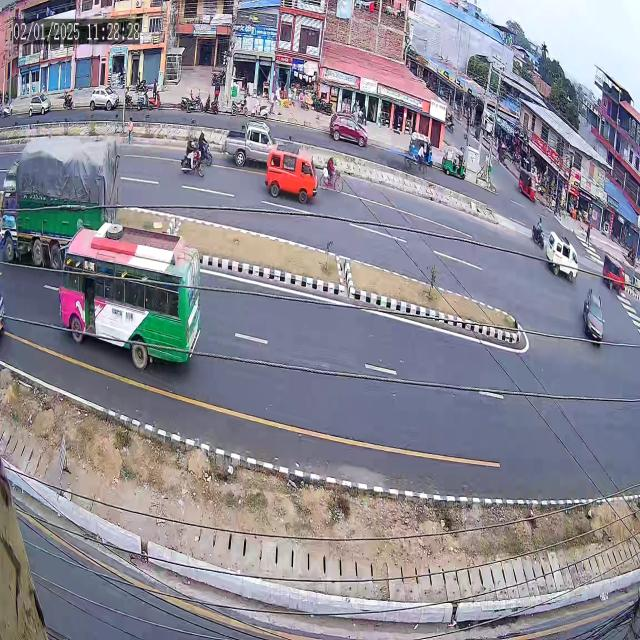car: (582, 286, 606, 356)
cycle: (316, 155, 350, 196)
van: (263, 143, 317, 214), (545, 222, 580, 286), (600, 248, 629, 302)
